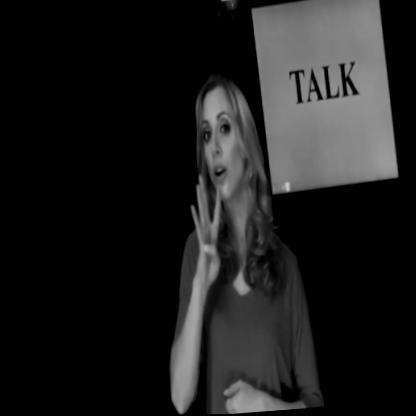Talk: (170, 69, 284, 305)
